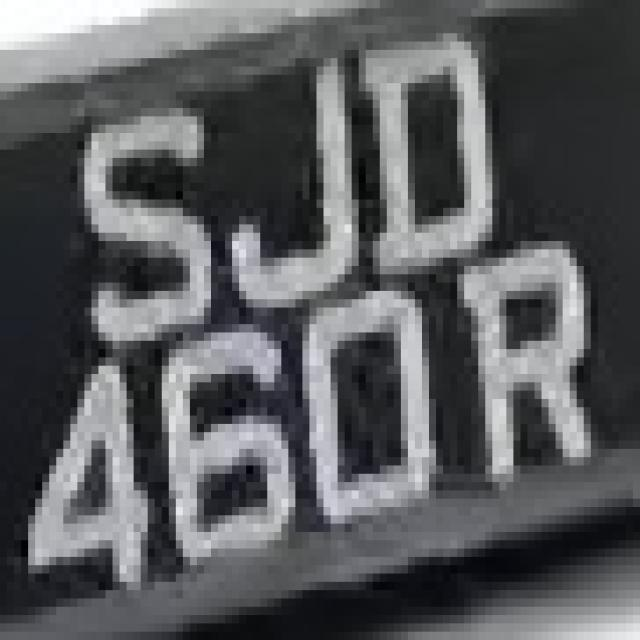0: (274, 266, 443, 524)
4: (7, 340, 162, 632)
6: (162, 341, 309, 590)
D: (366, 33, 506, 266)
J: (218, 41, 380, 316)
R: (457, 249, 633, 499)
S: (42, 100, 232, 341)
